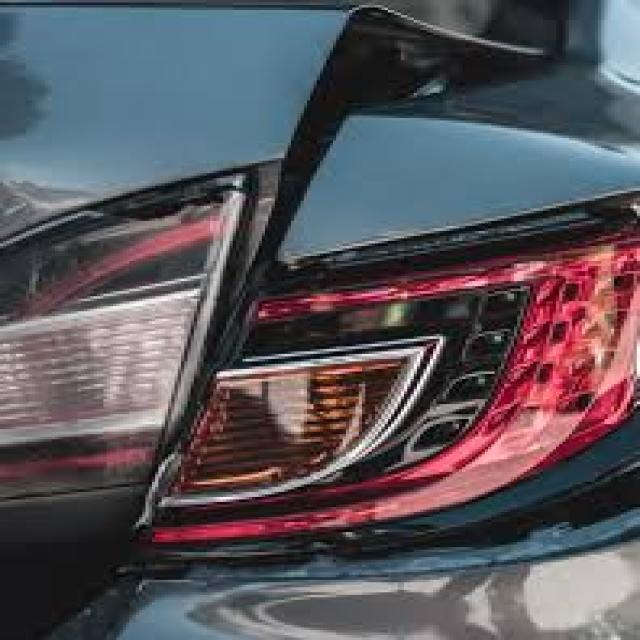damaged-tail-light: (0, 228, 640, 536)
